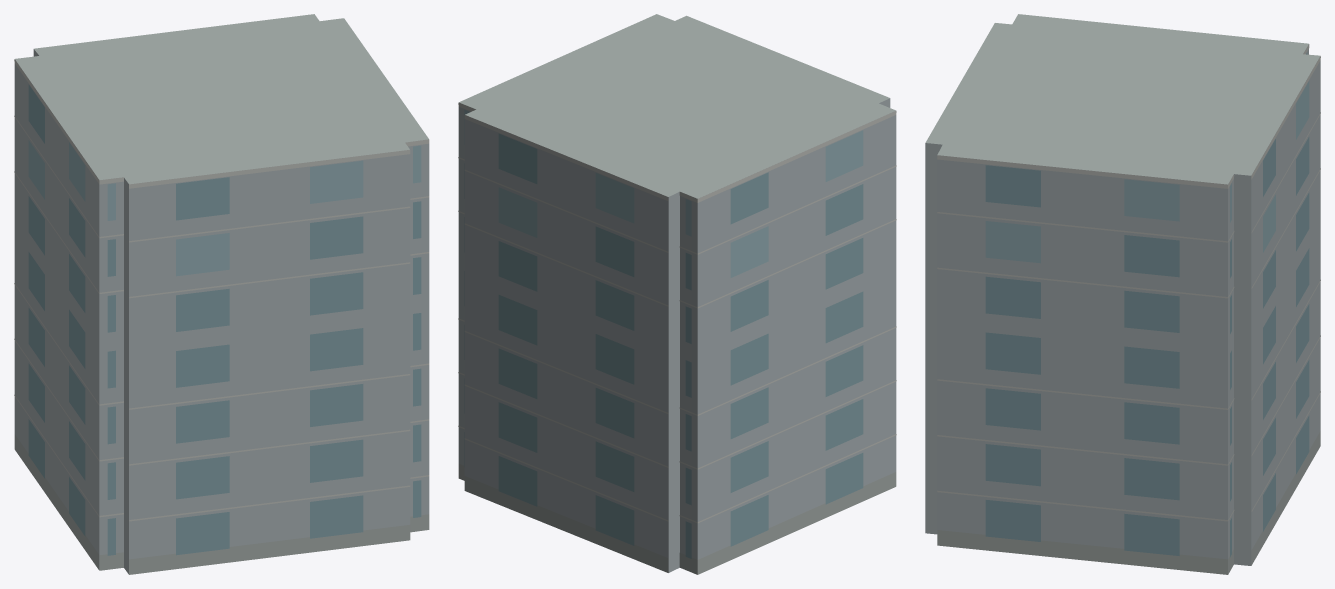
File: survey-upis-32701753.glb
3 renders of one model, left to right at view 1: azimuth 30°, elevation 25°; view 2: azimuth 150°, elevation 25°; view 3: azimuth 270°, elevation 25°, orthographic. The views are drawn at different scales.
Visible parts, largest first — view 1: survey-upis-32701753.tmp; view 2: survey-upis-32701753.tmp; view 3: survey-upis-32701753.tmp.
Part boxes in pixels (x1,y1,x2,y2): survey-upis-32701753.tmp: (14,14,429,574); survey-upis-32701753.tmp: (458,14,896,574); survey-upis-32701753.tmp: (925,14,1320,574).
Size of the model in its own units: 20.54 by 21.9 by 20.12.
